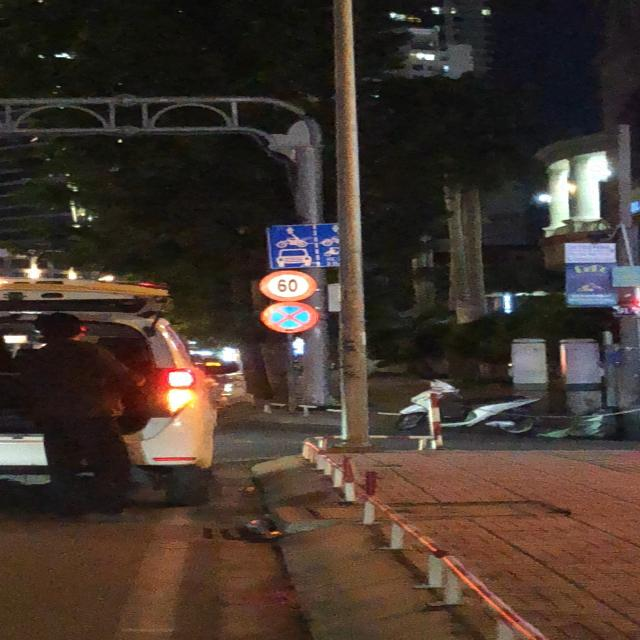Bien bao cam dung xe va do xe: (255, 302, 320, 336)
Bien bao toc do toi da cho phep: (252, 266, 322, 302)
